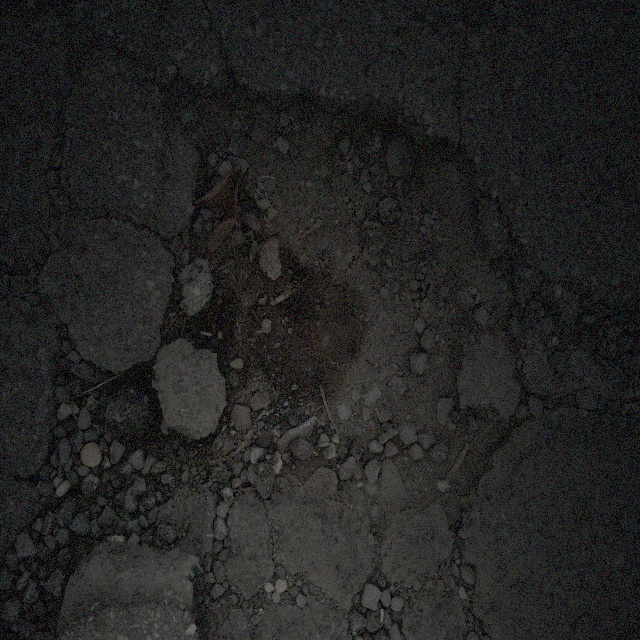pothole: (152, 56, 536, 513)
